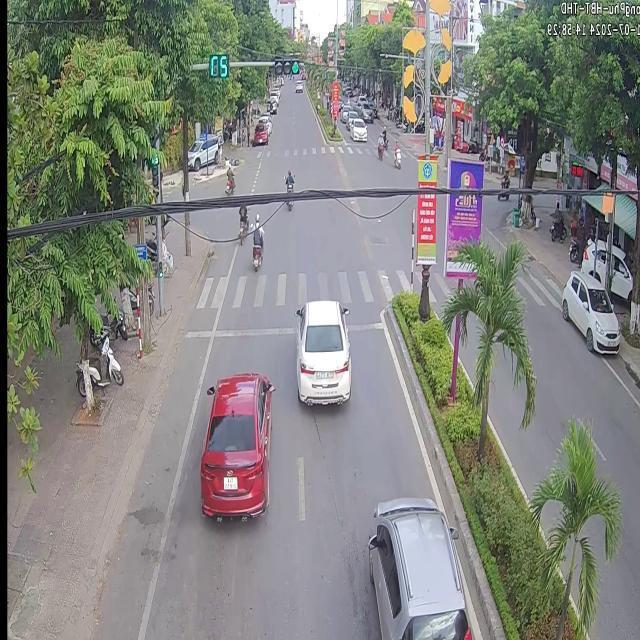car: (367, 496, 469, 638), (196, 370, 275, 525), (293, 298, 351, 409)
green_light: (270, 51, 301, 76), (148, 154, 158, 187)
motobike: (250, 210, 263, 272), (236, 200, 247, 249)
stop_line: (182, 321, 383, 336)
